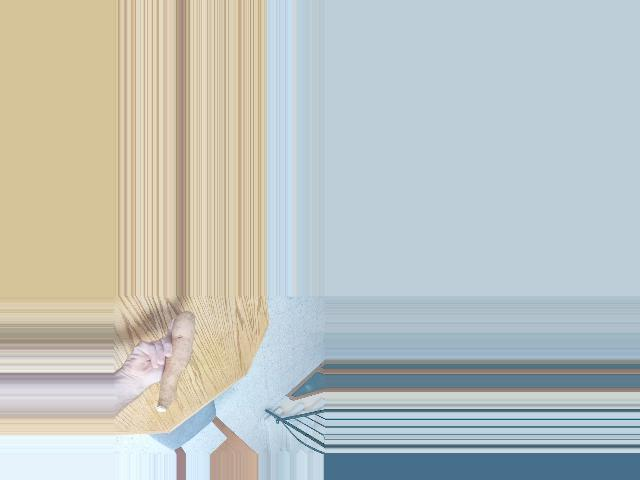sweet_potato: (156, 314, 201, 415)
